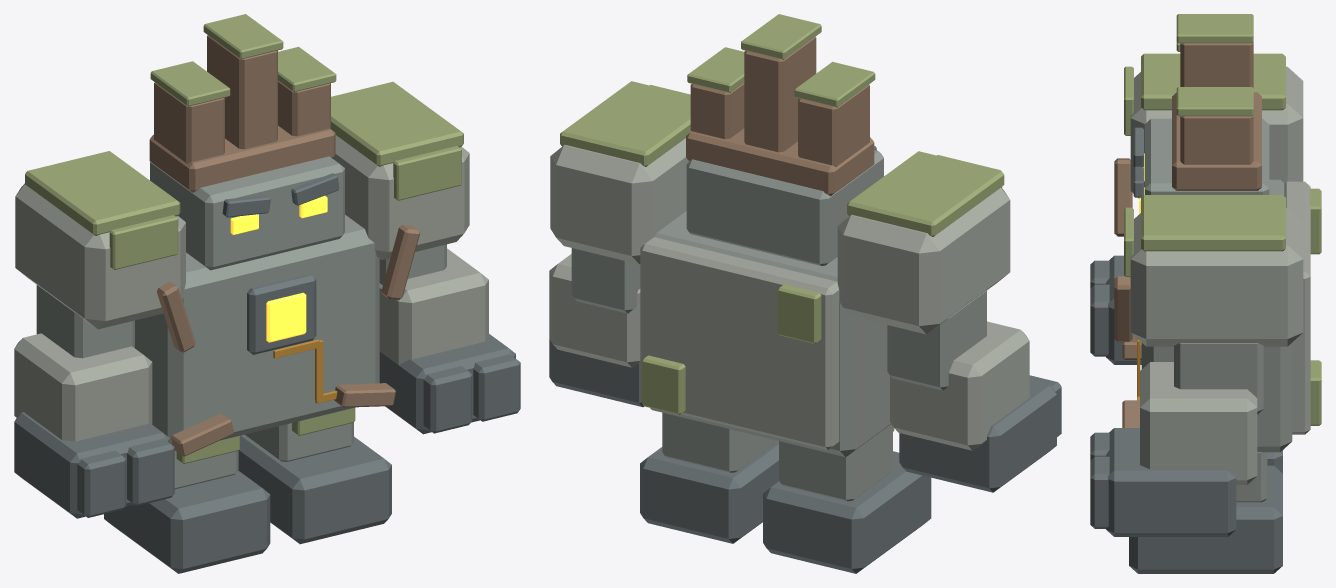
The model's file is ForestStoneKing.fbx.
3 renders of one model, left to right at view 1: azimuth 30°, elevation 25°; view 2: azimuth 150°, elevation 25°; view 3: azimuth 270°, elevation 25°, orthographic.
Visible parts, largest first — view 1: KingTorso, ShoulderSlab, KingHead, Forearm, KingFoot.001, KingFoot, Forearm.001, ShoulderSlab.001, ShoulderMoss, ShoulderMoss.001, KingFist, StumpCrown.001 (+27 smaller); view 2: BackSlab, ShoulderSlab, ShoulderSlab.001, KingHead, KingFoot, Forearm, KingTorso, KingFoot.001, KingFist, ShoulderMoss, ShoulderMoss.001, Forearm.001 (+14 smaller); view 3: ShoulderSlab.001, Forearm.001, KingFist.001, ShoulderMoss.001, KingFoot.001, UpperArm.001, ShoulderSlab, KingTorso, ShoulderMoss, BackSlab, StumpCrown.002, CrownBase (+20 smaller).
Boxes of the visible parts, x1=… form: KingTorso: x1=135, y1=215, x2=379, y2=444; ShoulderSlab: x1=15, y1=183, x2=185, y2=329; KingHead: x1=150, y1=156, x2=344, y2=270; Forearm: x1=14, y1=333, x2=152, y2=441; KingFoot.001: x1=238, y1=434, x2=391, y2=544; KingFoot: x1=104, y1=470, x2=270, y2=573; Forearm.001: x1=379, y1=248, x2=488, y2=365; ShoulderSlab.001: x1=332, y1=135, x2=469, y2=259; ShoulderMoss: x1=25, y1=151, x2=180, y2=235; ShoulderMoss.001: x1=330, y1=81, x2=463, y2=166; KingFist: x1=14, y1=412, x2=169, y2=518; StumpCrown.001: x1=207, y1=35, x2=277, y2=149; BackSlab: x1=640, y1=237, x2=839, y2=449; ShoulderSlab: x1=837, y1=187, x2=1010, y2=334; ShoulderSlab.001: x1=550, y1=138, x2=689, y2=264; KingHead: x1=686, y1=150, x2=883, y2=265; KingFoot: x1=763, y1=451, x2=931, y2=573; Forearm: x1=890, y1=321, x2=1029, y2=450; KingTorso: x1=650, y1=211, x2=890, y2=457; KingFoot.001: x1=640, y1=440, x2=778, y2=543; KingFist: x1=899, y1=380, x2=1056, y2=492; ShoulderMoss: x1=847, y1=151, x2=1004, y2=236; ShoulderMoss.001: x1=560, y1=81, x2=691, y2=166; Forearm.001: x1=549, y1=254, x2=640, y2=367; ShoulderSlab.001: x1=1130, y1=208, x2=1303, y2=346; Forearm.001: x1=1140, y1=362, x2=1257, y2=484; KingFist.001: x1=1106, y1=428, x2=1236, y2=536; ShoulderMoss.001: x1=1141, y1=195, x2=1285, y2=251; KingFoot.001: x1=1129, y1=465, x2=1282, y2=573; UpperArm.001: x1=1174, y1=343, x2=1263, y2=414; ShoulderSlab: x1=1130, y1=66, x2=1303, y2=198; KingTorso: x1=1141, y1=179, x2=1292, y2=452; ShoulderMoss: x1=1141, y1=53, x2=1285, y2=110; BackSlab: x1=1284, y1=181, x2=1310, y2=434; StumpCrown.002: x1=1180, y1=115, x2=1253, y2=164; CrownBase: x1=1172, y1=92, x2=1261, y2=190.
Size of the model in its own units: 286 by 300 by 126.
